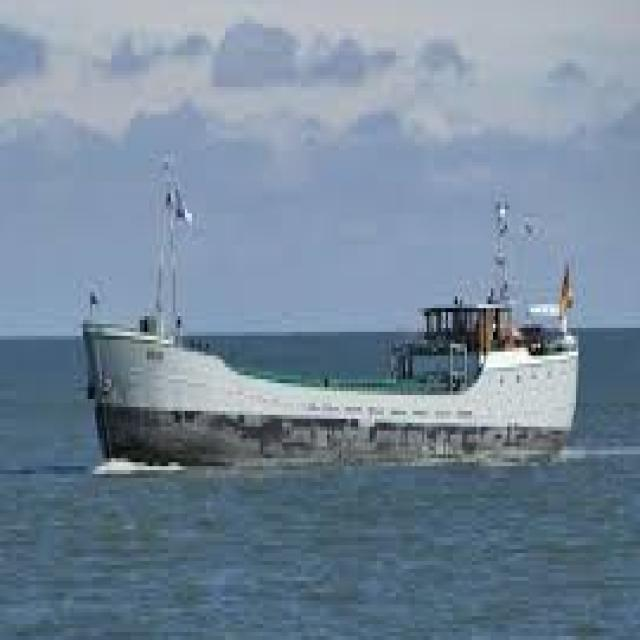cargoship: (77, 180, 585, 480)
